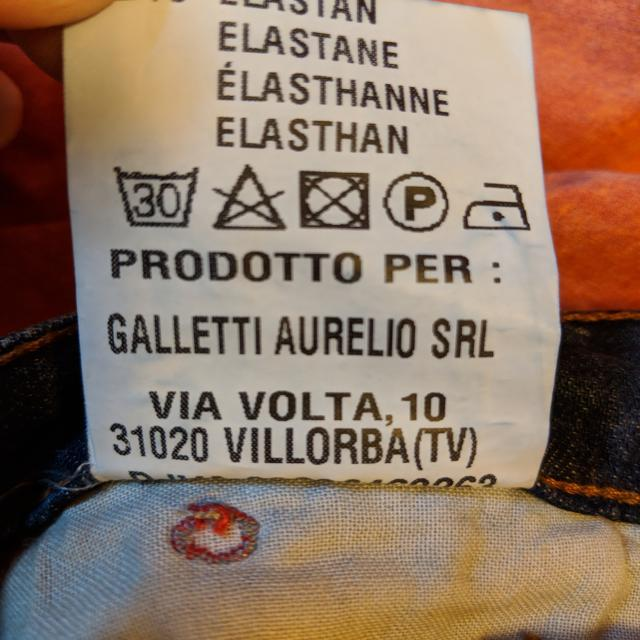30C: (110, 162, 205, 231)
DN_bleach: (215, 163, 287, 234)
DN_tumble_dry: (296, 169, 373, 233)
dry_clean_any_solvent_except_trichloroethylene: (382, 169, 450, 233)
iron_low: (462, 177, 531, 234)
